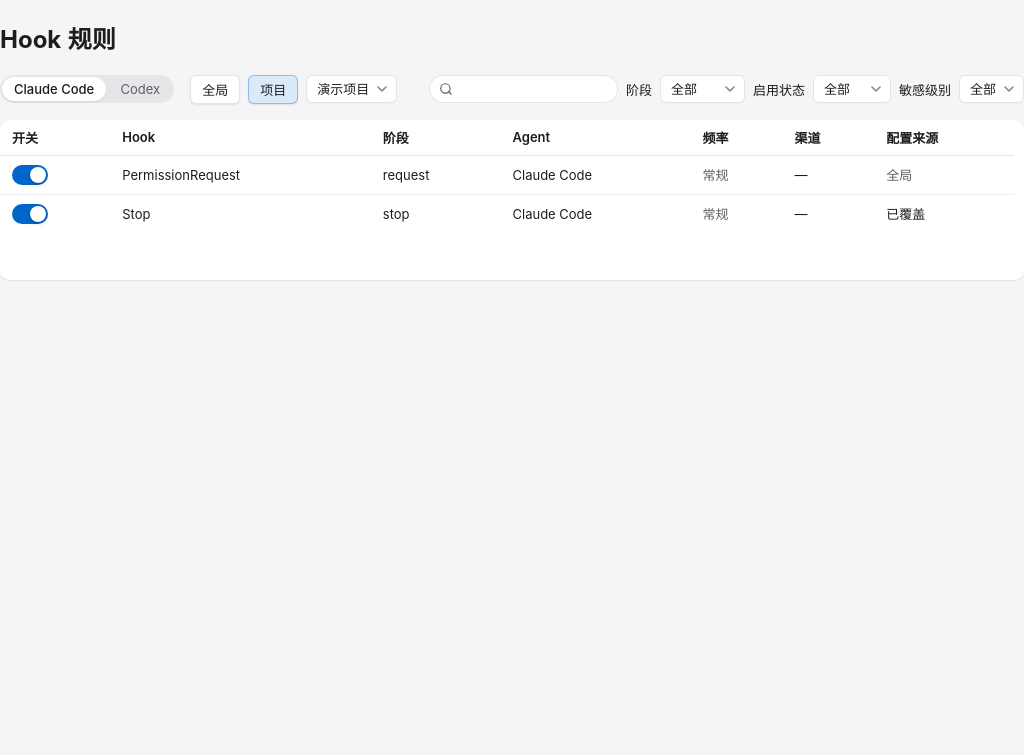
reset icon removes one override and restores inherited display
Click the row "Stop stop Claude Code 常规 — 已覆盖". click: (552, 214)
box: [0,195,1014,233]
(page scrolled)
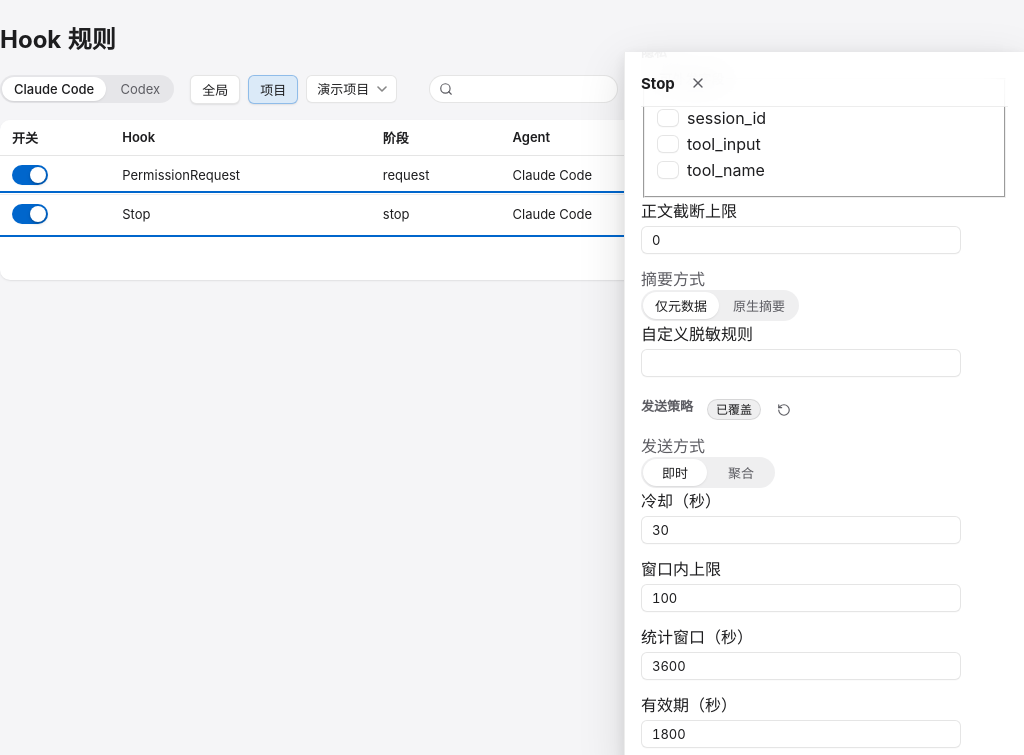
Click the button named "恢复发送策略继承". click: (784, 410)
box: [769,395,799,425]
(page scrolled)
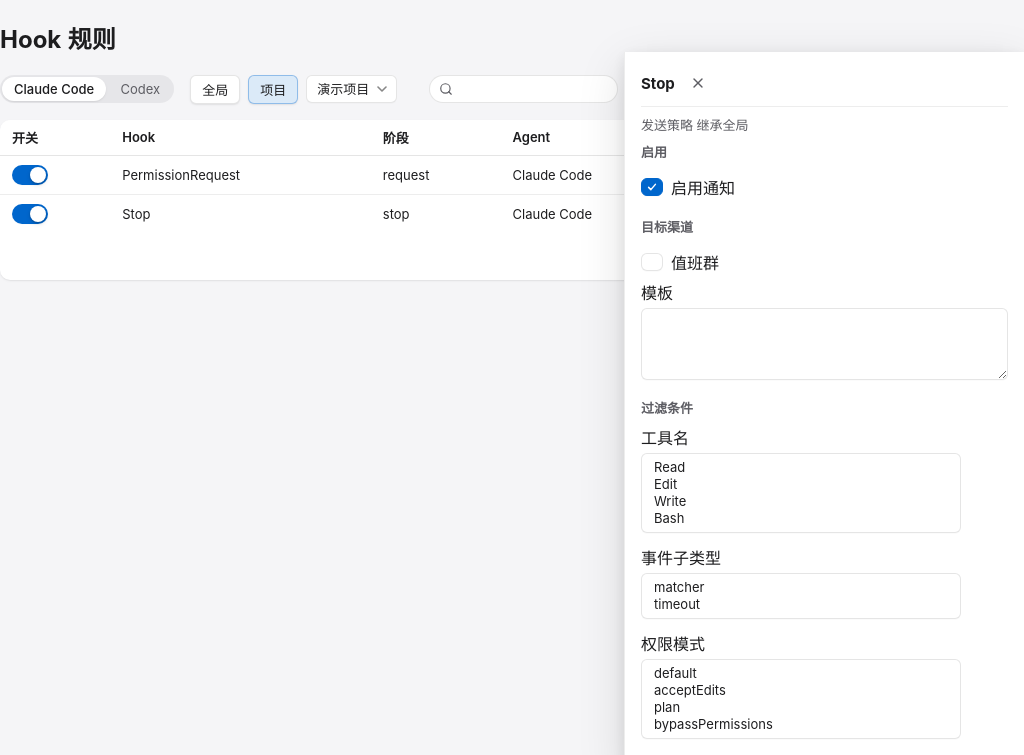
Expected: the text "继承全局" is shown, [696,117,748,133]
